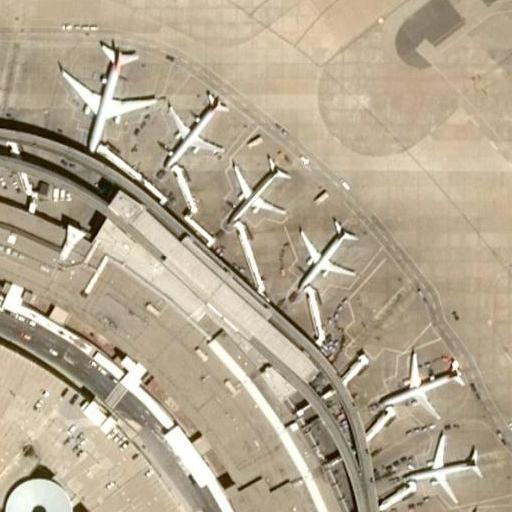Aircraft: (59, 29, 158, 143), (366, 343, 476, 423), (152, 91, 241, 181), (393, 430, 494, 506), (282, 217, 361, 299), (215, 159, 291, 232), (416, 510, 512, 512)
